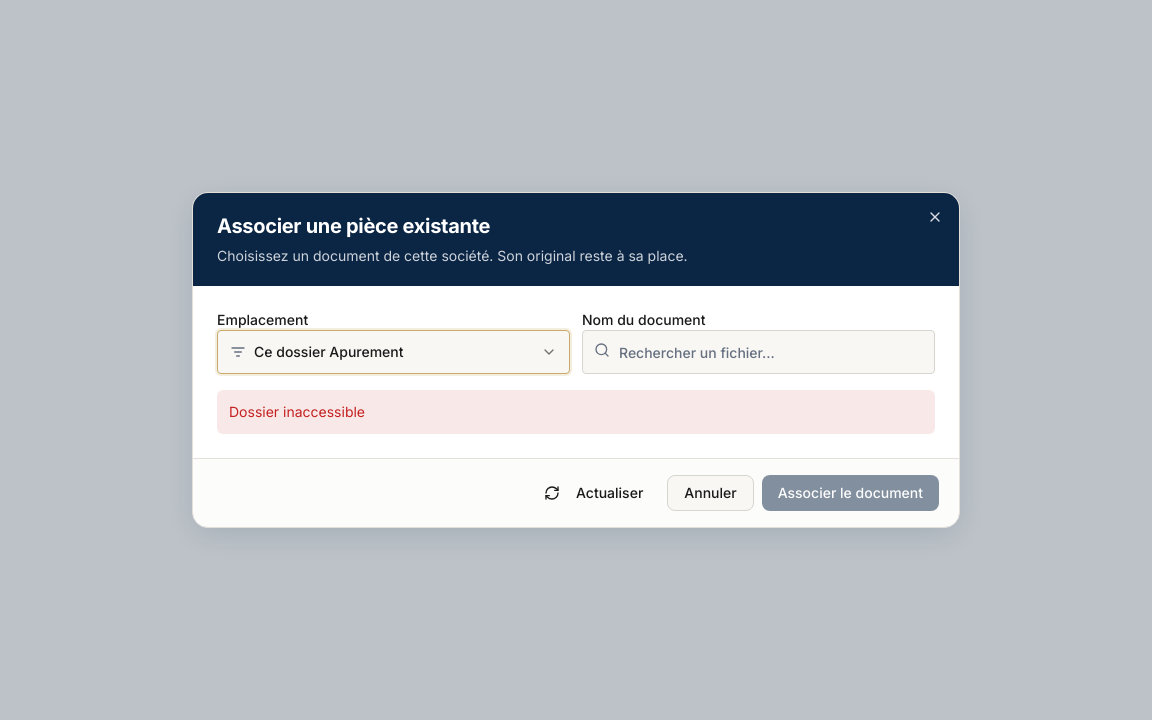
displays request errors and allows retry instead of silently hiding the picker
The image size is (1152, 720).
Expected: the message reads "Dossier inaccessible", [229, 403, 365, 420]
Step 1. Click the button "Actualiser" → [594, 493], box [528, 475, 659, 511]
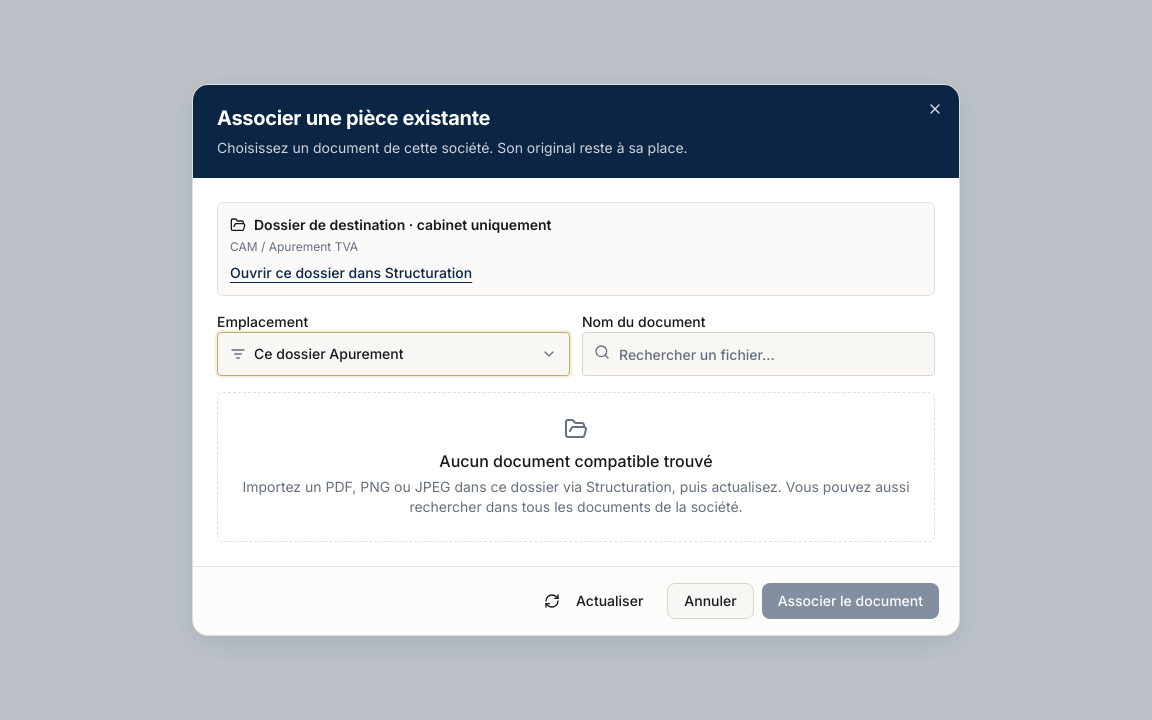
Expected: the text "Aucun document compatible trouvé" is shown, [439, 451, 713, 471]
